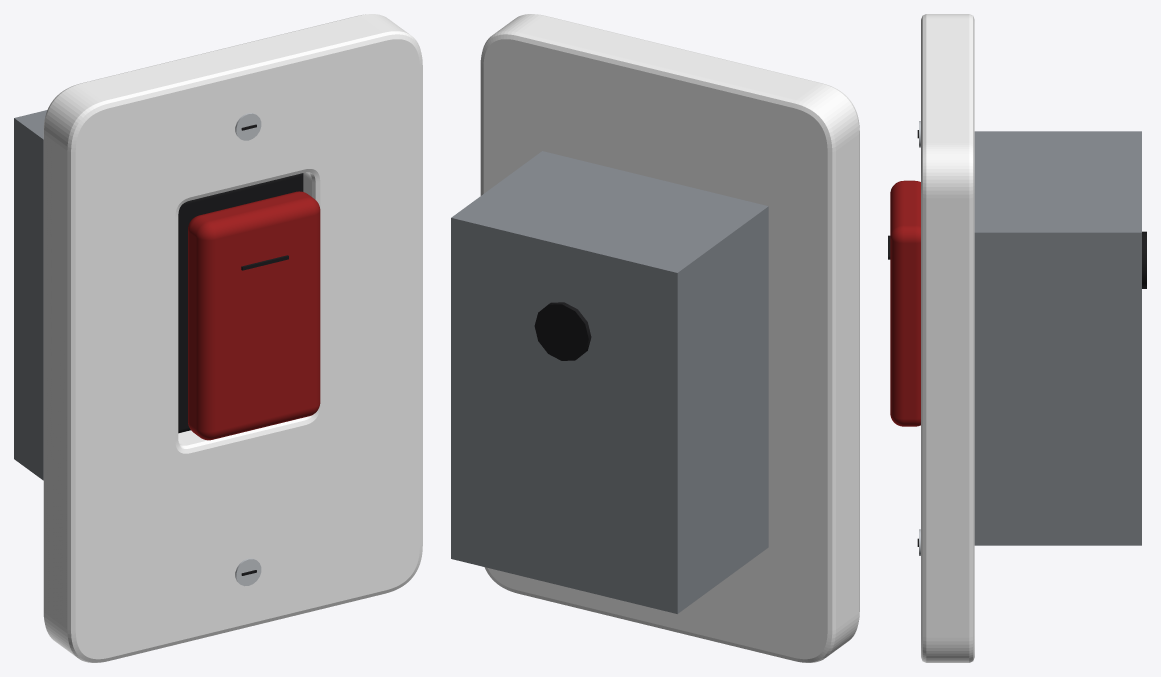
The model's file is isolator.glb.
3 views of the same model, side by side, from view 1: azimuth 30°, elevation 25°; view 2: azimuth 150°, elevation 25°; view 3: azimuth 270°, elevation 25° (orthographic). The views are drawn at different scales.
Visible parts, largest first — view 1: isolator, Rocker; view 2: isolator; view 3: isolator, Rocker.
Boxes of the visible parts, left/top/right/bottom form: isolator: left=14, top=14, right=422, bottom=662; Rocker: left=188, top=191, right=320, bottom=440; isolator: left=451, top=14, right=859, bottom=662; isolator: left=917, top=14, right=1146, bottom=662; Rocker: left=888, top=180, right=920, bottom=426.
Bounding box in the file's own units: 0.0784 × 0.1184 × 0.0539.
